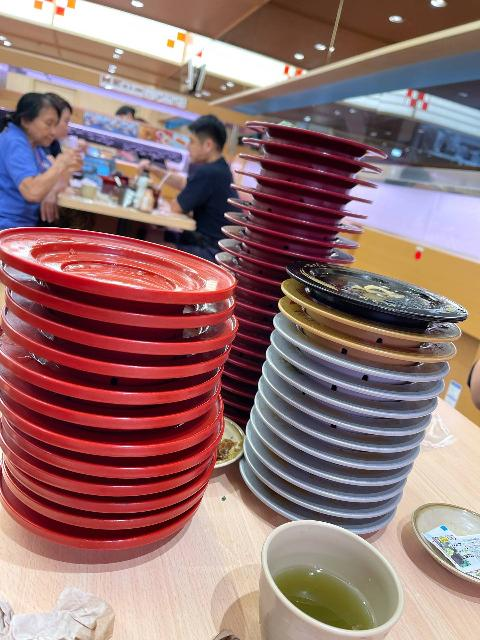janback: (289, 260, 455, 323)
jangold: (291, 292, 461, 346), (301, 319, 460, 365)
janred: (0, 242, 215, 298), (30, 322, 217, 358), (32, 423, 230, 457), (27, 349, 215, 380), (7, 375, 212, 403), (23, 295, 219, 324), (8, 528, 193, 558), (29, 505, 180, 533), (24, 406, 202, 427), (268, 108, 364, 145), (21, 495, 190, 512), (247, 155, 348, 182), (245, 183, 327, 210), (272, 177, 359, 202), (42, 479, 187, 494), (240, 204, 328, 227), (237, 217, 314, 239), (307, 155, 393, 174), (54, 464, 212, 473), (232, 262, 286, 283), (234, 254, 296, 269), (232, 238, 294, 252), (234, 299, 280, 317), (220, 387, 260, 405), (230, 329, 273, 341), (233, 345, 266, 359), (234, 354, 265, 368), (238, 319, 277, 330), (234, 288, 276, 298), (224, 371, 252, 386), (219, 400, 261, 409), (229, 411, 254, 425)
janwhite: (309, 349, 447, 387), (285, 477, 402, 504), (274, 519, 400, 538), (320, 382, 438, 401), (343, 403, 440, 424), (315, 455, 408, 472), (295, 503, 402, 517), (337, 424, 423, 440), (345, 439, 413, 457), (339, 479, 405, 488)
